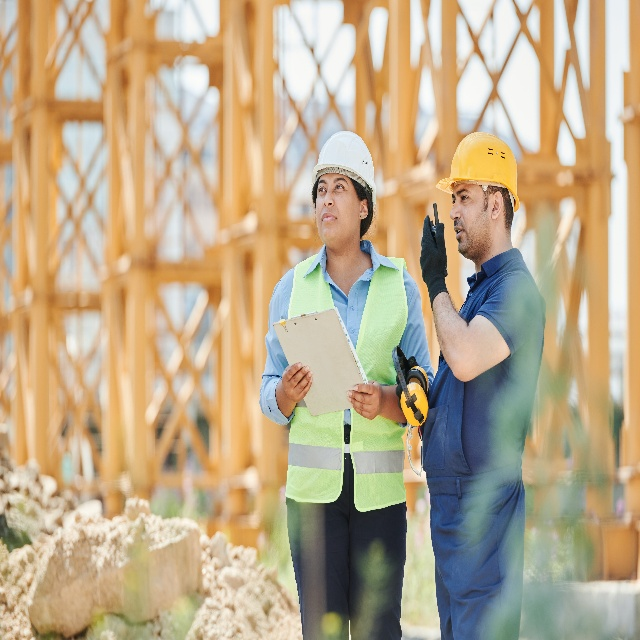Gafas: (406, 423, 424, 475)
Guantes: (417, 217, 446, 286), (393, 359, 421, 402)
Sin_guantes: (346, 378, 382, 423), (281, 362, 313, 404)
